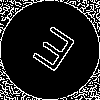E: (25, 25, 78, 81)
